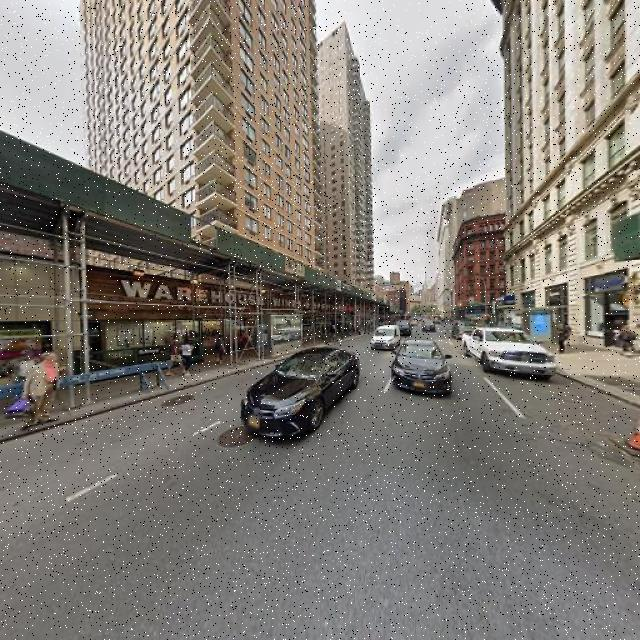Building: (504, 1, 640, 358), (219, 1, 322, 358)
